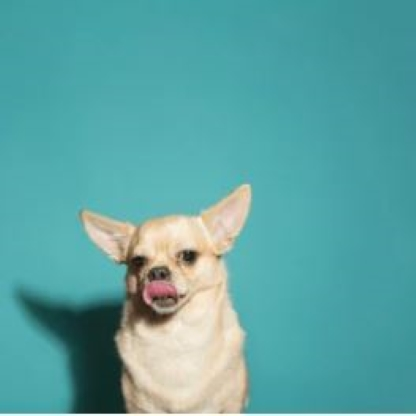chihuahua: (83, 181, 254, 411)
